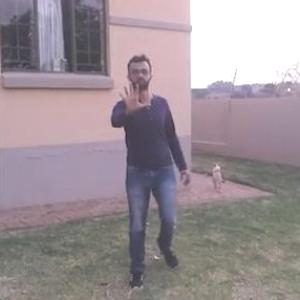follow_hand: (115, 77, 152, 116)
